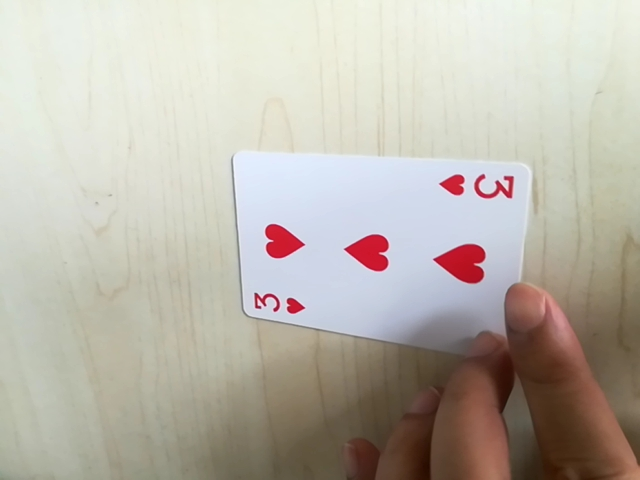hx 3: (437, 164, 522, 204), (245, 290, 305, 322)
